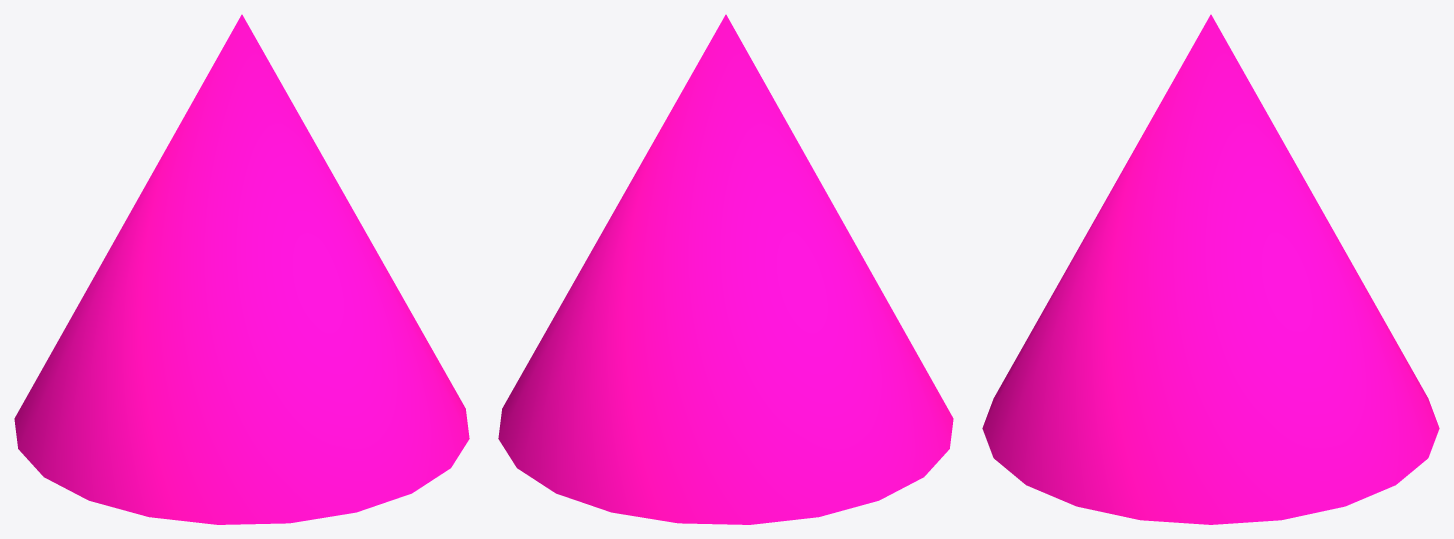
The model's file is BaseCone.007.glb.
3 views of the same model, side by side, from view 1: azimuth 30°, elevation 25°; view 2: azimuth 150°, elevation 25°; view 3: azimuth 270°, elevation 25° (orthographic).
Parts seen in each view (by area): view 1: BaseCone.007; view 2: BaseCone.007; view 3: BaseCone.007.
Part boxes in pixels (<box>): BaseCone.007: <box>14,14,469,524</box>; BaseCone.007: <box>498,14,953,524</box>; BaseCone.007: <box>982,14,1439,524</box>.
Size of what is drawn, in the model's own units: 0.7487 by 0.7487 by 0.7487.
1 material, 1 textured.
